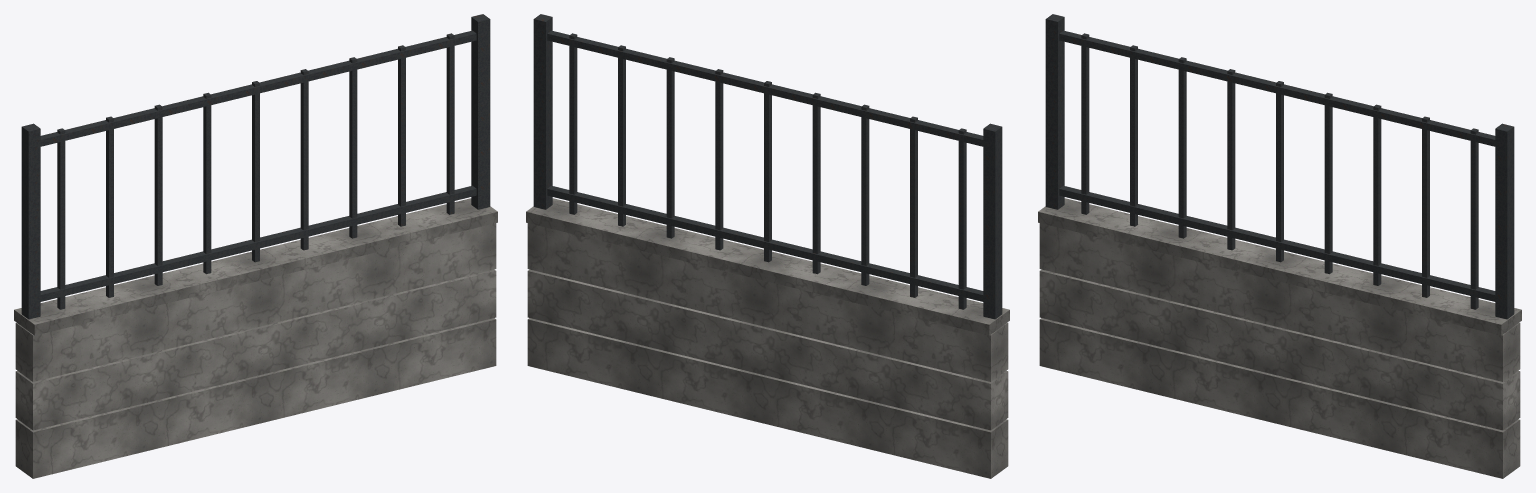
File: fence.glb
The picture shows the model from 3 angles, left to right: view 1: azimuth 30°, elevation 25°; view 2: azimuth 150°, elevation 25°; view 3: azimuth 330°, elevation 25°; orthographic projection.
Parts seen in each view (by area): view 1: fence; view 2: fence; view 3: fence.
Boxes of the visible parts, x1,y1,x2,y2 form: fence: [14, 14, 497, 478]; fence: [526, 14, 1009, 478]; fence: [1038, 14, 1521, 478].
Bounding box in the file's own units: 2 × 1.42 × 0.154.
2 materials, 2 textured.
